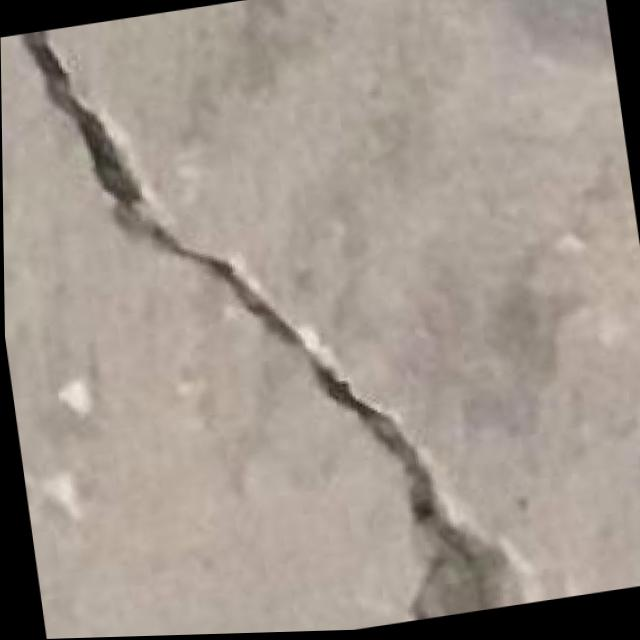Crack: (11, 0, 532, 640)
